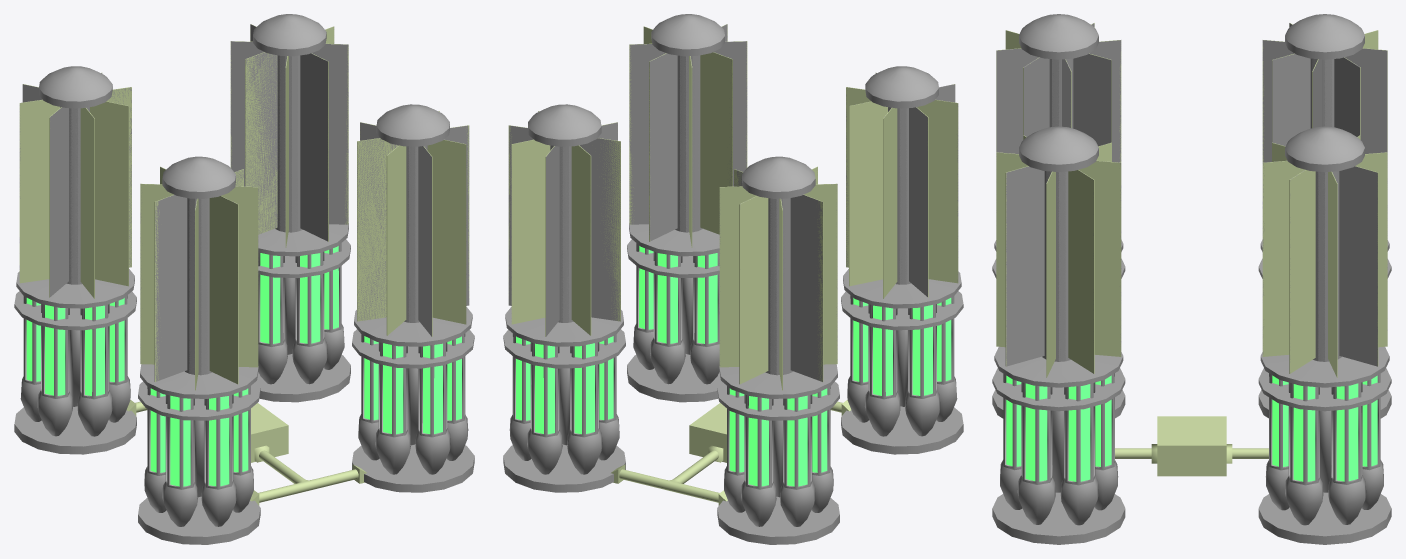
Rendered from Power T1.fbx.
3 renders of one model, left to right at view 1: azimuth 30°, elevation 25°; view 2: azimuth 150°, elevation 25°; view 3: azimuth 270°, elevation 25°, orthographic. The views are drawn at different scales.
Parts seen in each view (by area): view 1: Models.001; view 2: Models.001; view 3: Models.001.
Part boxes in pixels (x1=…): Models.001: x1=14, y1=14, x2=474, y2=544; Models.001: x1=503, y1=14, x2=963, y2=544; Models.001: x1=992, y1=14, x2=1391, y2=544.
Size of the model in its own units: 1449 by 1557 by 1449.
